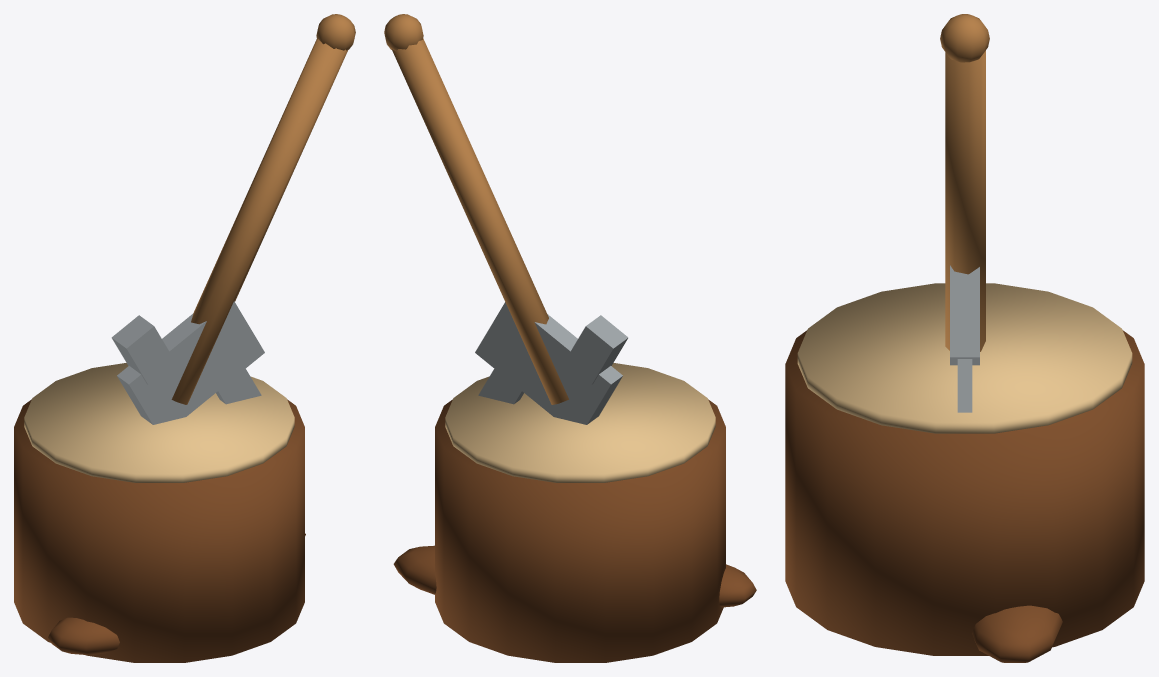
File: axe.glb
3 views of the same model, side by side, from view 1: azimuth 30°, elevation 25°; view 2: azimuth 150°, elevation 25°; view 3: azimuth 270°, elevation 25° (orthographic). The views are drawn at different scales.
Parts seen in each view (by area): view 1: Stump, Axe; view 2: Stump, Axe; view 3: Stump, Axe.
Part boxes in pixels (<box>): Stump: <box>14,363,305,662</box>; Axe: <box>111,14,355,424</box>; Stump: <box>393,363,756,662</box>; Axe: <box>384,14,628,424</box>; Stump: <box>785,283,1144,662</box>; Axe: <box>940,14,989,412</box>.
Size of the model in its own units: 0.9486 by 1.49 by 0.72.
